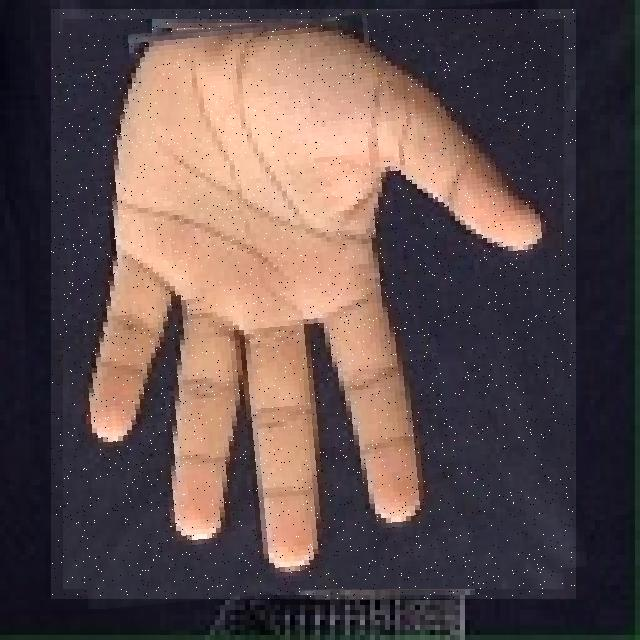Yes: (51, 9, 576, 599)
